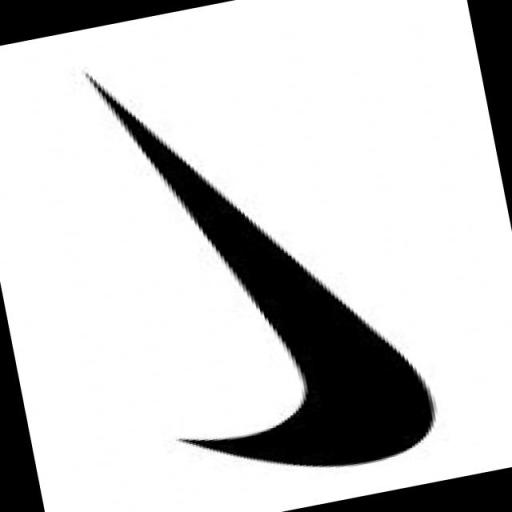Nike: (67, 2, 462, 512)
